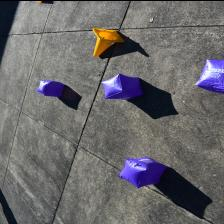cone: (91, 27, 125, 57), (36, 0, 41, 2)
cube: (118, 156, 168, 188), (102, 72, 144, 100), (194, 58, 224, 94), (36, 78, 66, 96)
